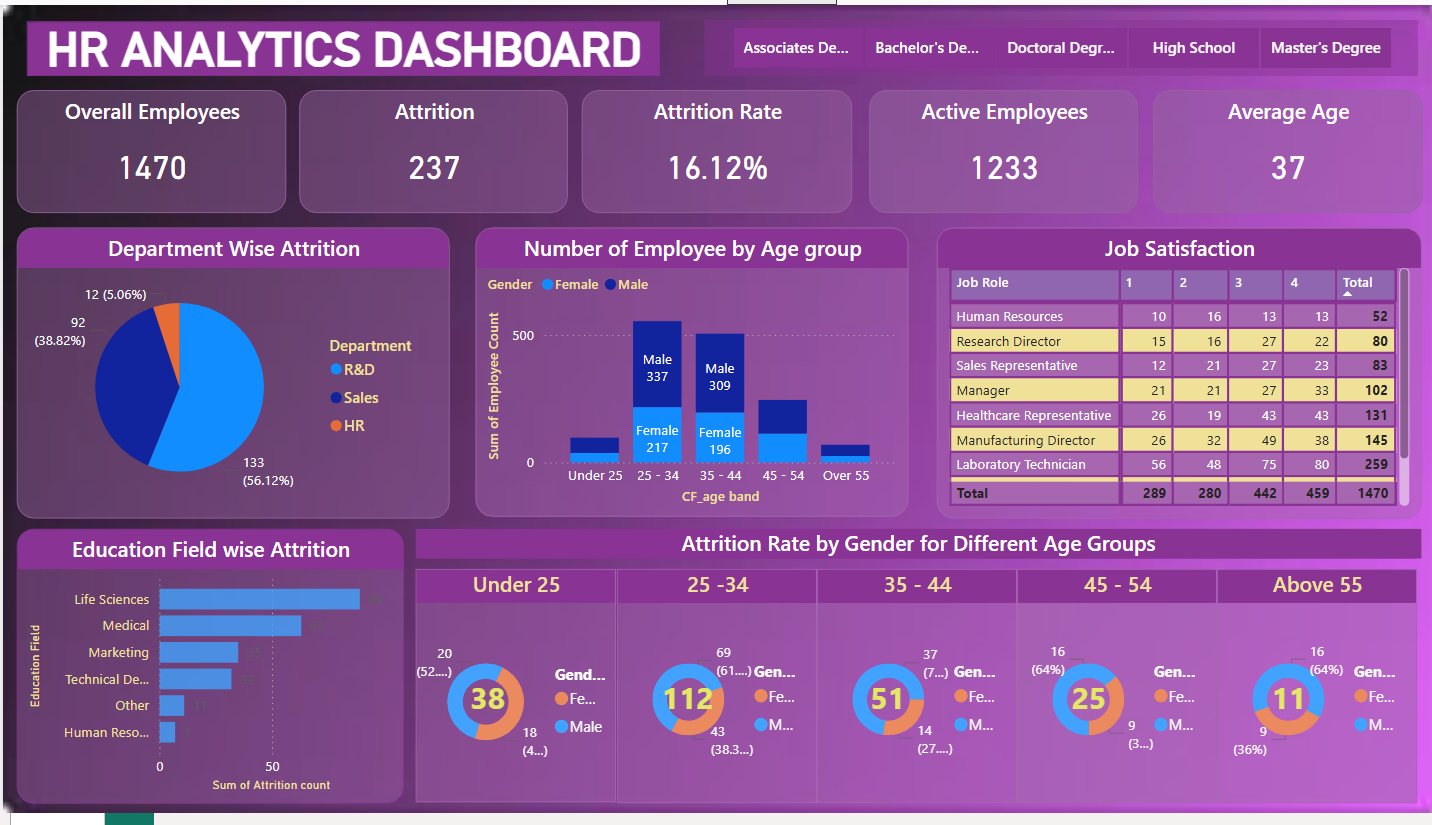

The page's visual inventory and layout, read from the dashboard file:
{"tool":"powerbi","page":{"name":"Page 1","canvas":[1280,720],"ordinal":0},"visuals":[{"type":"card","title":"Overall Employees ","fields":{"Values":["Sum(HR data.Employee Count)"]},"box":[12.3,75.5,240.1,109.8],"z":0},{"type":"card","title":"Attrition ","fields":{"Values":["Sum(HR data.Attrition count)"]},"box":[264,75.6,239.5,109.3],"z":1000},{"type":"card","title":"Attrition Rate","fields":{"Values":["HR data.Attrition Rate"]},"box":[515.1,75.6,240.7,109.3],"z":2000},{"type":"card","title":"Active Employees ","fields":{"Values":["HR data.Active Employees"]},"box":[770.9,75.6,239.5,109.3],"z":3000},{"type":"card","title":"Average Age","fields":{"Values":["Avg(HR data.Age)"]},"box":[1023.7,75.5,240.1,109.8],"z":4000},{"type":"pieChart","title":" Department Wise Attrition","fields":{"Category":["HR data.Department"],"Y":["Sum(HR data.Attrition count)"]},"box":[12.3,197.6,385.6,259.3],"z":5000},{"type":"columnChart","title":"Number of Employee by Age group","fields":{"Category":["HR data.CF_age band"],"Y":["Sum(HR data.Employee Count)"],"Series":["HR data.Gender"]},"box":[421.3,197.6,385.6,258],"z":6000},{"type":"pivotTable","title":"Job Satisfaction","fields":{"Rows":["HR data.Job Role"],"Columns":["HR data.Job Satisfaction"],"Values":["Sum(HR data.Employee Count)"]},"box":[831.6,197.6,432.2,259.3],"z":7000},{"type":"barChart","title":"Education Field wise Attrition","fields":{"Category":["HR data.Education Field"],"Y":["Sum(HR data.Attrition count)"]},"box":[12.3,466.6,344.4,245],"z":8000},{"type":"donutChart","title":"Under 25","fields":{"Category":["HR data.Gender"],"Y":["Sum(HR data.Attrition count)"],"Series":["HR data.CF_age band"]},"box":[367.8,502.2,178.4,208],"z":9000},{"type":"textbox","title":"Attrition Rate by Gender for Different Age Groups","box":[367.8,466.6,896.1,26.1],"z":10000},{"type":"donutChart","title":"25 -34","fields":{"Category":["HR data.Gender"],"Y":["Sum(HR data.Attrition count)"],"Series":["HR data.CF_age band"]},"box":[546.1,502.2,178.4,208.6],"z":11000},{"type":"donutChart","title":"35 - 44","fields":{"Category":["HR data.Gender"],"Y":["Sum(HR data.Attrition count)"],"Series":["HR data.CF_age band"]},"box":[724.5,502.2,178.4,208.6],"z":12000},{"type":"donutChart","title":"45 - 54","fields":{"Category":["HR data.Gender"],"Y":["Sum(HR data.Attrition count)"],"Series":["HR data.CF_age band"]},"box":[902.9,502.2,178.4,208.6],"z":13000},{"type":"donutChart","title":"Above  55","fields":{"Category":["HR data.Gender"],"Y":["Sum(HR data.Attrition count)"],"Series":["HR data.CF_age band"]},"box":[1081.3,502.2,178.4,208.6],"z":14000},{"type":"textbox","title":"HR ANALYTICS DASHBOARD","box":[23.3,13.7,591.4,49.4],"z":15000},{"type":"slicer","fields":{"Values":["HR data.Education"]},"box":[624.4,13.7,635.3,49.4],"z":16000},{"type":"card","fields":{"Values":["Sum(HR data.Attrition count)"]},"box":[763,588.7,50.8,57.6],"z":17000},{"type":"card","fields":{"Values":["Sum(HR data.Attrition count)"]},"box":[941.3,588.7,50.8,57.6],"z":18000},{"type":"card","fields":{"Values":["Sum(HR data.Attrition count)"]},"box":[1119.7,588.7,50.8,57.6],"z":19000},{"type":"card","fields":{"Values":["Sum(HR data.Attrition count)"]},"box":[584.6,588.7,50.8,57.6],"z":20000},{"type":"card","fields":{"Values":["Sum(HR data.Attrition count)"]},"box":[406.2,588.7,50.8,57.6],"z":21000}]}

Visuals, with their boxes in screenshot pixels (x1, y1, x2, y2), scaled from the page's 1280x720 canvas onto the 1432x825 screenshot:
"Overall Employees " card: box(14, 87, 282, 212)
"Attrition " card: box(295, 87, 563, 212)
"Attrition Rate" card: box(576, 87, 846, 212)
"Active Employees " card: box(862, 87, 1130, 212)
"Average Age" card: box(1145, 87, 1414, 212)
" Department Wise Attrition" pieChart: box(14, 226, 445, 524)
"Number of Employee by Age group" columnChart: box(471, 226, 903, 522)
"Job Satisfaction" pivotTable: box(930, 226, 1414, 524)
"Education Field wise Attrition" barChart: box(14, 535, 399, 815)
"Under 25" donutChart: box(411, 575, 611, 814)
"Attrition Rate by Gender for Different Age Groups" textbox: box(411, 535, 1414, 565)
"25 -34" donutChart: box(611, 575, 811, 814)
"35 - 44" donutChart: box(811, 575, 1010, 814)
"45 - 54" donutChart: box(1010, 575, 1210, 814)
"Above  55" donutChart: box(1210, 575, 1409, 814)
"HR ANALYTICS DASHBOARD" textbox: box(26, 16, 688, 72)
slicer - HR data.Education: box(699, 16, 1409, 72)
card - Sum(HR data.Attrition count): box(854, 675, 910, 741)
card - Sum(HR data.Attrition count): box(1053, 675, 1110, 741)
card - Sum(HR data.Attrition count): box(1253, 675, 1309, 741)
card - Sum(HR data.Attrition count): box(654, 675, 711, 741)
card - Sum(HR data.Attrition count): box(454, 675, 511, 741)
